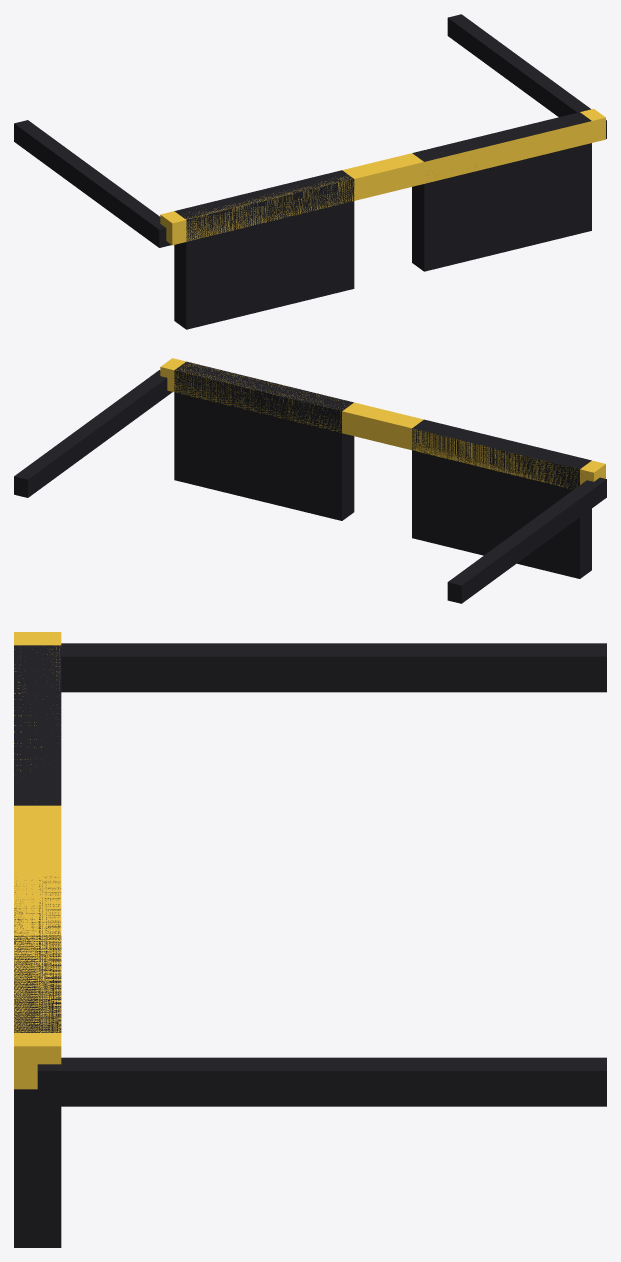
File: glasses_sun.glb
3 views of the same model, one above another, from view 1: azimuth 30°, elevation 25°; view 2: azimuth 150°, elevation 25°; view 3: azimuth 270°, elevation 25° (orthographic). The views are drawn at different scales.
Parts seen in each view (by area): view 1: glasses_sun; view 2: glasses_sun; view 3: glasses_sun.
Boxes of the visible parts, x1,y1,x2,y2 form: glasses_sun: [14, 14, 606, 329]; glasses_sun: [14, 358, 606, 603]; glasses_sun: [14, 632, 606, 1247].
Bounding box in the file's own units: 0.64 × 0.15 × 0.375.
